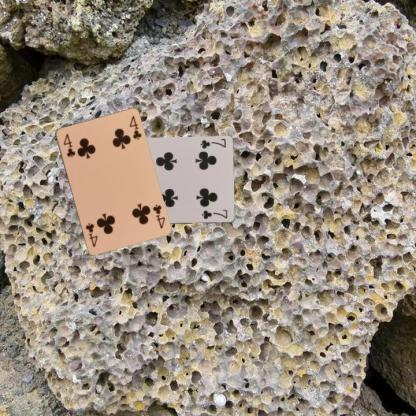4c: (60, 130, 76, 159), (150, 202, 166, 231)
7c: (198, 136, 226, 150)
